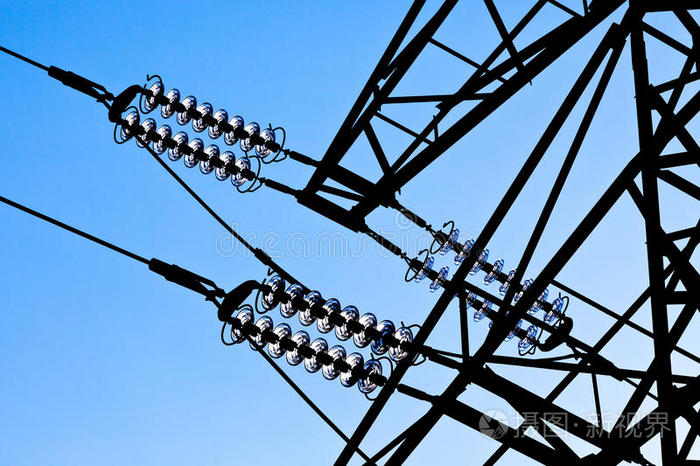insulator: (231, 271, 411, 389), (116, 77, 276, 184), (419, 230, 560, 351)
